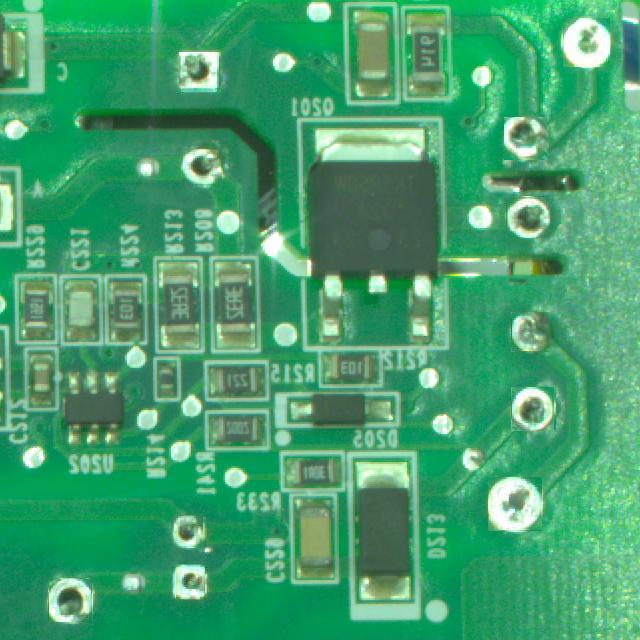oppostie_direction: (489, 477, 541, 529), (562, 19, 610, 66), (49, 579, 92, 622), (506, 196, 550, 238), (513, 387, 554, 431), (504, 118, 545, 158), (179, 52, 219, 90), (511, 313, 549, 350), (183, 150, 222, 185), (175, 566, 205, 600), (174, 516, 202, 547)
